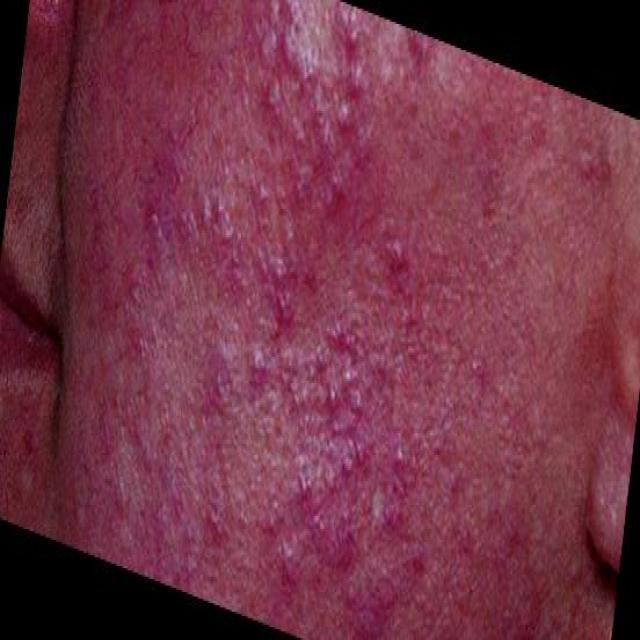Acne: (88, 0, 615, 586)
